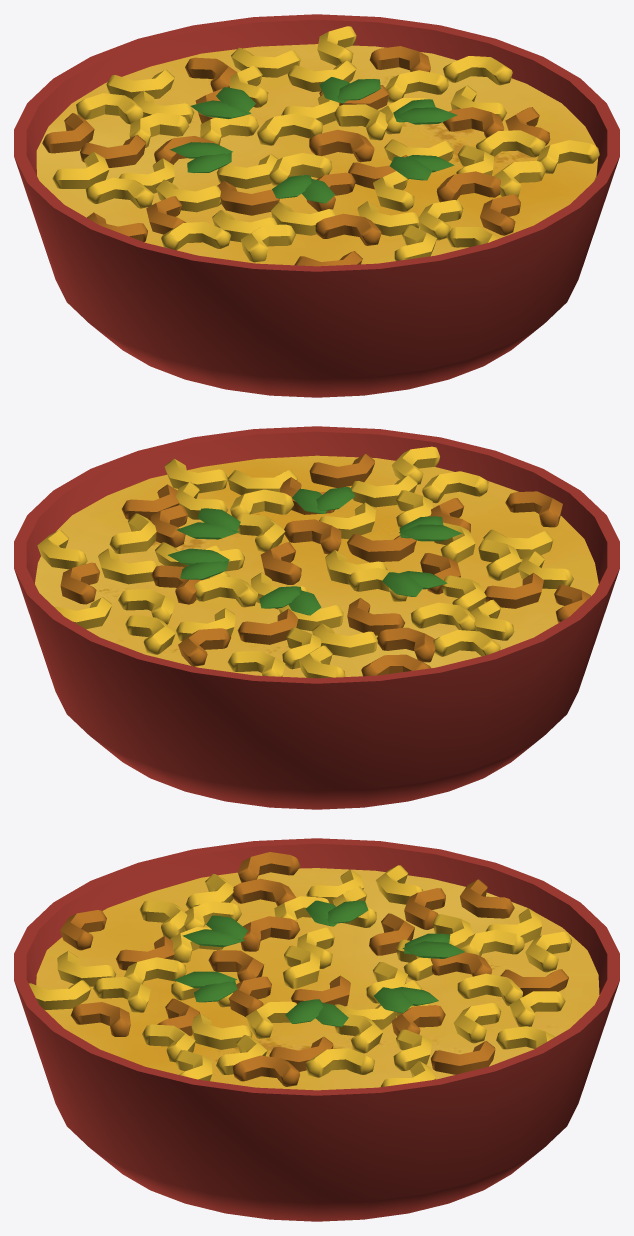
File: meal_mac_and_cheese.glb
3 renders of one model, top to bottom at view 1: azimuth 30°, elevation 25°; view 2: azimuth 150°, elevation 25°; view 3: azimuth 270°, elevation 25°, orthographic.
Visible parts, largest first — view 1: meal_mac_and_cheese; view 2: meal_mac_and_cheese; view 3: meal_mac_and_cheese.
Part boxes in pixels (box(x1,y1,x2,y2)): meal_mac_and_cheese: box(14, 14, 619, 397); meal_mac_and_cheese: box(14, 426, 619, 809); meal_mac_and_cheese: box(14, 838, 619, 1221).
Size of the model in its own units: 0.19 by 0.0588 by 0.189.
5 materials, 1 textured.
